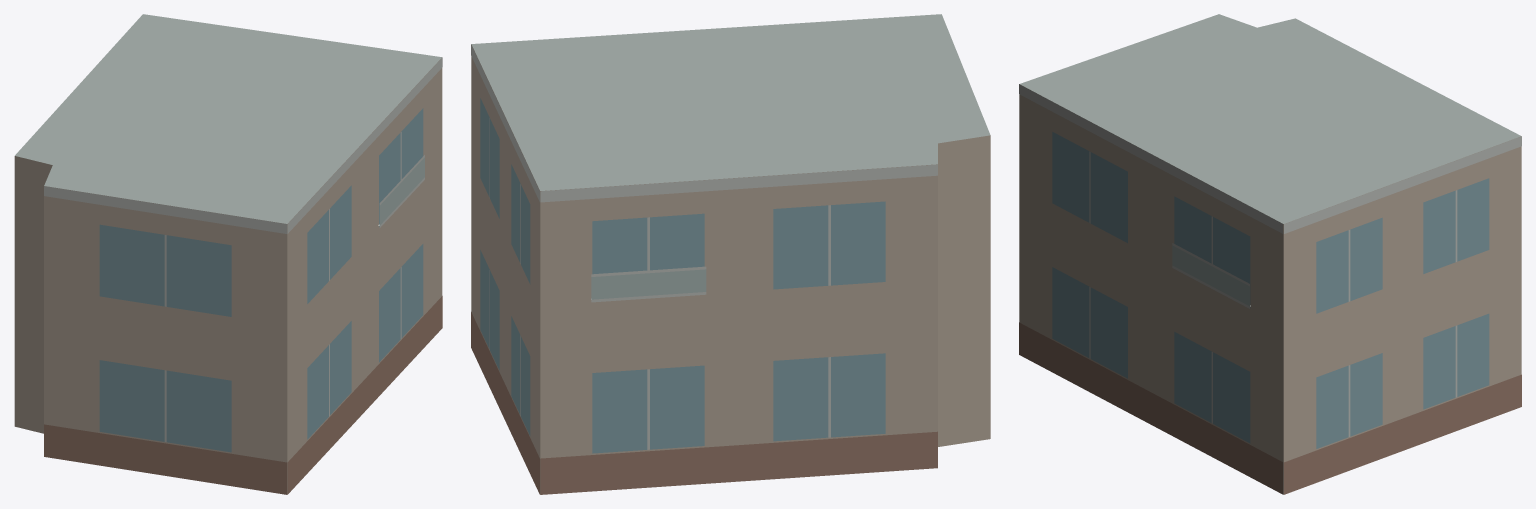
The model's file is survey-upis-32604400.glb.
3 renders of one model, left to right at view 1: azimuth 30°, elevation 25°; view 2: azimuth 150°, elevation 25°; view 3: azimuth 270°, elevation 25°, orthographic. The views are drawn at different scales.
Visible parts, largest first — view 1: survey-upis-32604400.tmp; view 2: survey-upis-32604400.tmp; view 3: survey-upis-32604400.tmp.
Part boxes in pixels (<box>): survey-upis-32604400.tmp: <box>14,14,442,494</box>; survey-upis-32604400.tmp: <box>471,14,990,494</box>; survey-upis-32604400.tmp: <box>1019,14,1521,494</box>.
Bounding box in the file's own units: 10.83 × 6.5 × 10.94.
